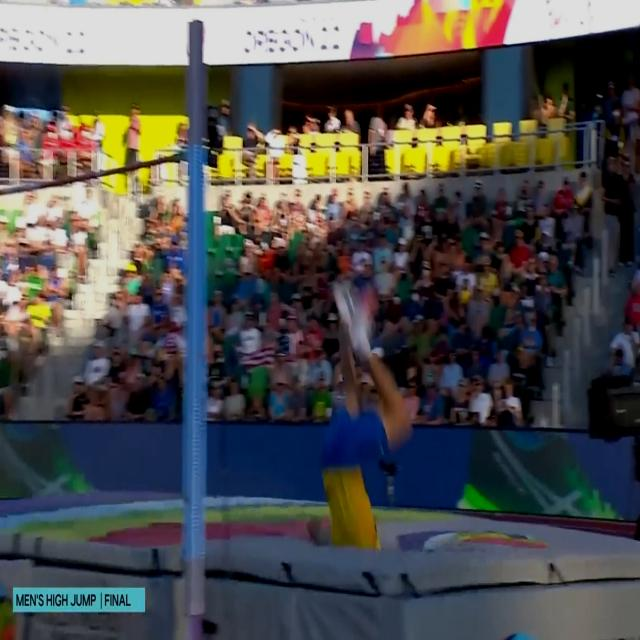land: (319, 276, 411, 552)
